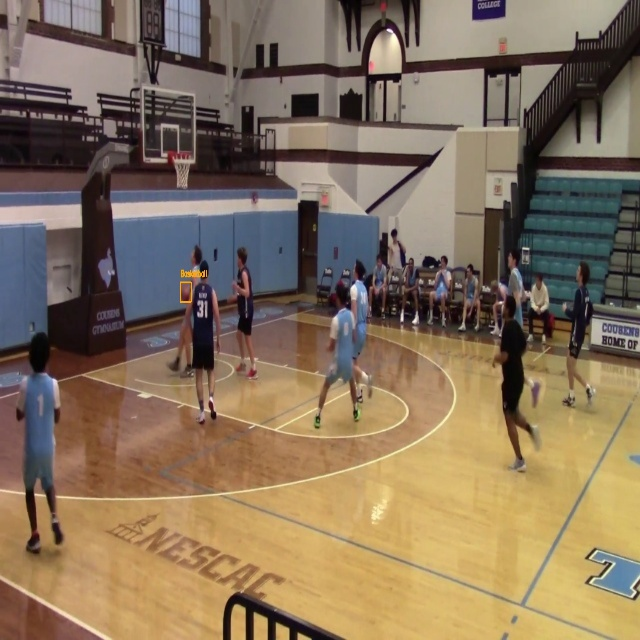Basketball: (181, 282, 191, 302)
